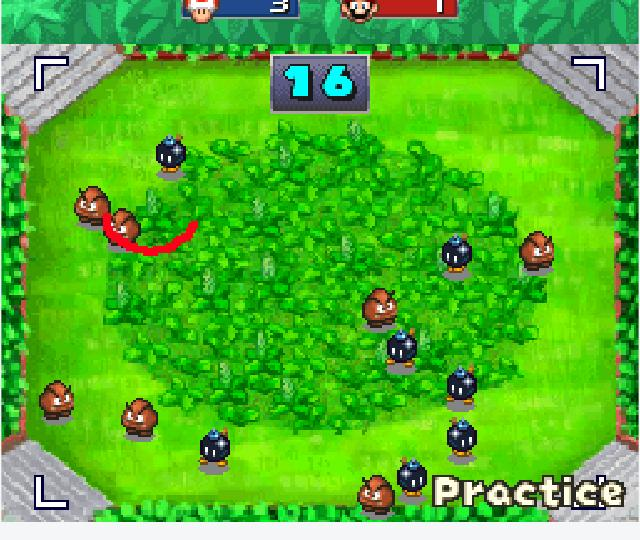bomb: (149, 129, 195, 185), (382, 323, 423, 380), (444, 412, 485, 468), (441, 361, 486, 412), (438, 232, 480, 282), (195, 427, 238, 473), (391, 453, 431, 502)
goomba: (355, 468, 399, 521), (355, 286, 407, 328), (515, 228, 559, 276), (101, 202, 143, 250), (38, 378, 76, 430), (121, 394, 160, 443), (69, 185, 111, 228)
